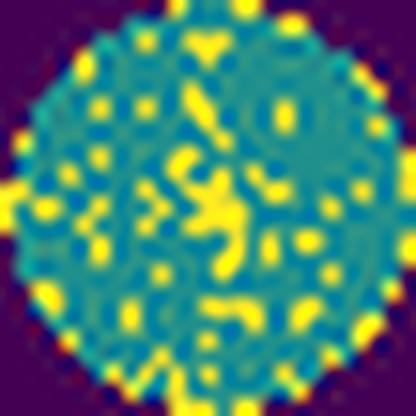Center: (167, 140, 254, 286)
